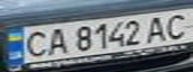1: (90, 20, 112, 51)
2: (124, 17, 148, 47)
4: (106, 18, 127, 48)
8: (72, 23, 93, 53)
A: (42, 25, 72, 56), (142, 14, 172, 44)
C: (18, 28, 51, 58), (160, 11, 193, 40)
